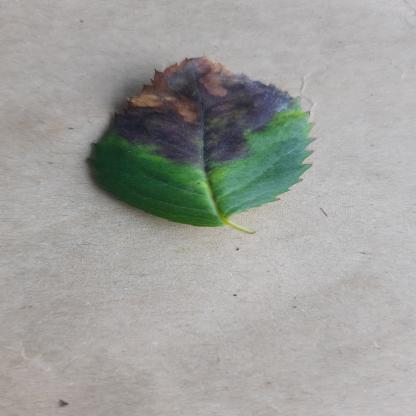powdery-mildew: (82, 53, 318, 231)
